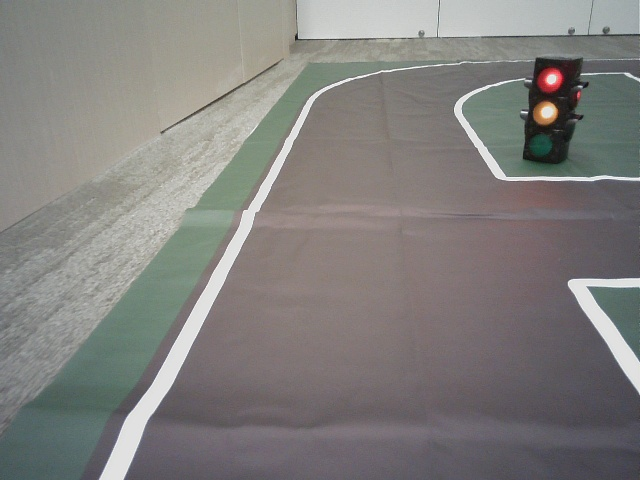red: (528, 60, 561, 158)
